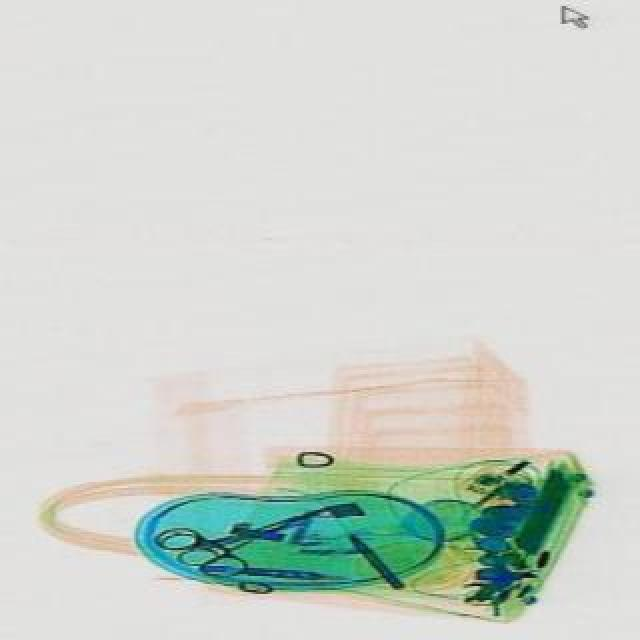pliers: (150, 482, 338, 592), (152, 504, 282, 572)
